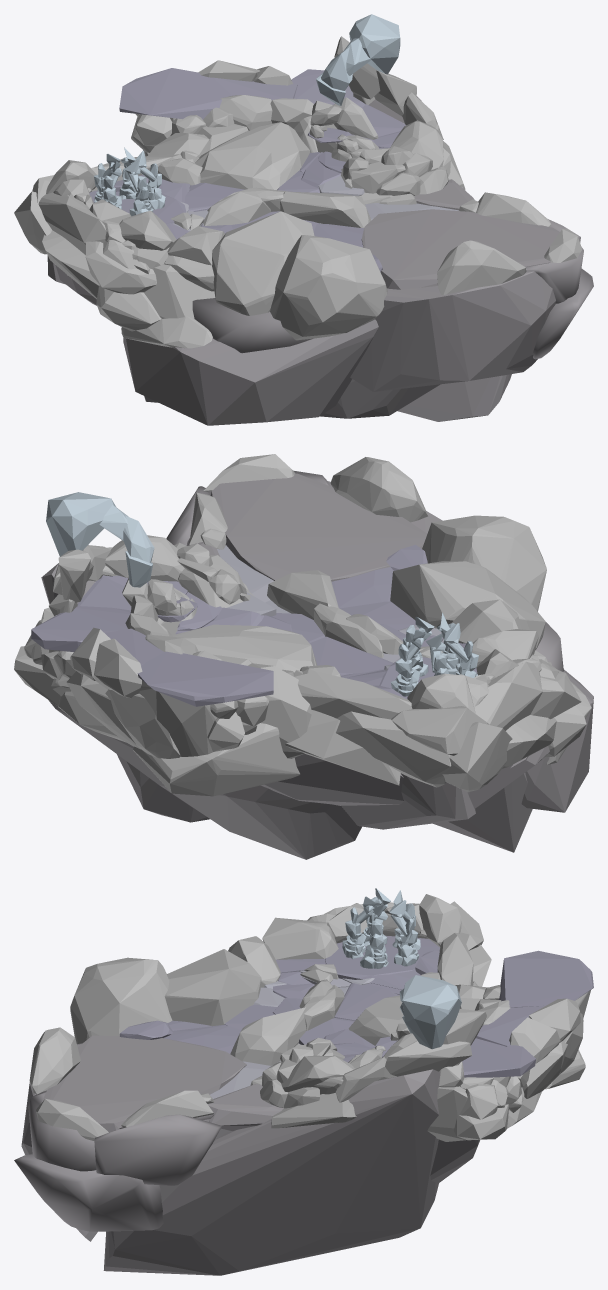
Rendered from Final_World_RS.fbx.
3 renders of one model, top to bottom at view 1: azimuth 30°, elevation 25°; view 2: azimuth 150°, elevation 25°; view 3: azimuth 270°, elevation 25°, orthographic. The views are drawn at different scales.
Visible parts, largest first — view 1: s.0819, s.0820, s.1732, s.0807, s.1731, s.1737, s.1672, s.0818, s.1059, s.1701, s.1694, s.0531 (+48 smaller); view 2: s.0807, s.0822, s.1732, s.1731, s.1667, s.1672, s.0805, s.1737, s.0984, s.0806, s.1701, s.0820 (+59 smaller); view 3: s.0818, s.0807, s.1031, s.0811, s.1732, s.1731, s.1672, s.0605, s.1694, s.0812, s.1734, s.1701 (+43 smaller).
Boxes of the visible parts, box(x1,y1,x2,y2) form: s.0819: box(350, 271, 555, 391); s.0820: box(123, 319, 378, 425); s.1732: box(270, 235, 387, 340); s.0807: box(361, 209, 559, 289); s.1731: box(212, 211, 314, 315); s.1737: box(195, 122, 309, 189); s.1672: box(119, 68, 231, 119); s.0818: box(369, 96, 511, 421); s.1059: box(192, 298, 312, 353); s.1701: box(437, 240, 526, 294); s.1694: box(280, 191, 371, 227); s.0531: box(38, 192, 106, 254); s.0807: box(210, 473, 427, 581); s.0822: box(48, 700, 361, 859); s.1732: box(422, 515, 546, 611); s.1731: box(390, 561, 545, 650); s.1667: box(133, 723, 300, 796); s.1672: box(137, 651, 273, 706); s.0805: box(261, 753, 528, 805); s.1737: box(169, 624, 317, 672); s.0984: box(336, 711, 451, 787); s.0806: box(341, 773, 475, 829); s.1701: box(330, 457, 427, 522); s.0820: box(521, 669, 593, 812); s.0818: box(103, 1069, 440, 1275); s.0807: box(41, 1035, 246, 1132); s.1031: box(14, 1154, 163, 1231); s.0811: box(94, 1114, 221, 1185); s.1732: box(70, 957, 172, 1043); s.1731: box(164, 949, 261, 1026); s.1672: box(498, 950, 593, 1007); s.0605: box(402, 975, 461, 1049); s.1694: box(230, 1007, 307, 1065); s.0812: box(28, 1090, 96, 1171); s.1734: box(262, 917, 338, 959); s.1701: box(29, 1027, 80, 1094).
Bounding box in the file's own units: 6687 × 4659 × 7440.
